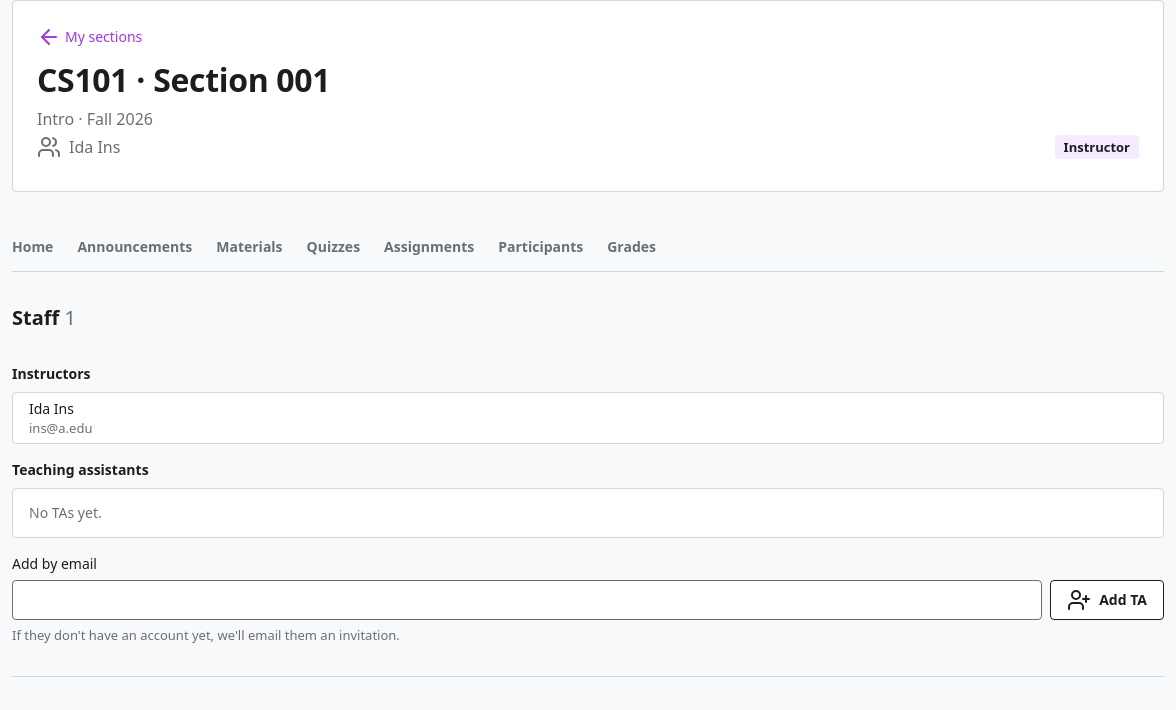
Test: adds a TA and shows the chip after refetch
The width and height of the screenshot is (1176, 710).
In the field labelled "Add by email": (527, 600) [12, 580, 1042, 620], type " tom@a.edu "
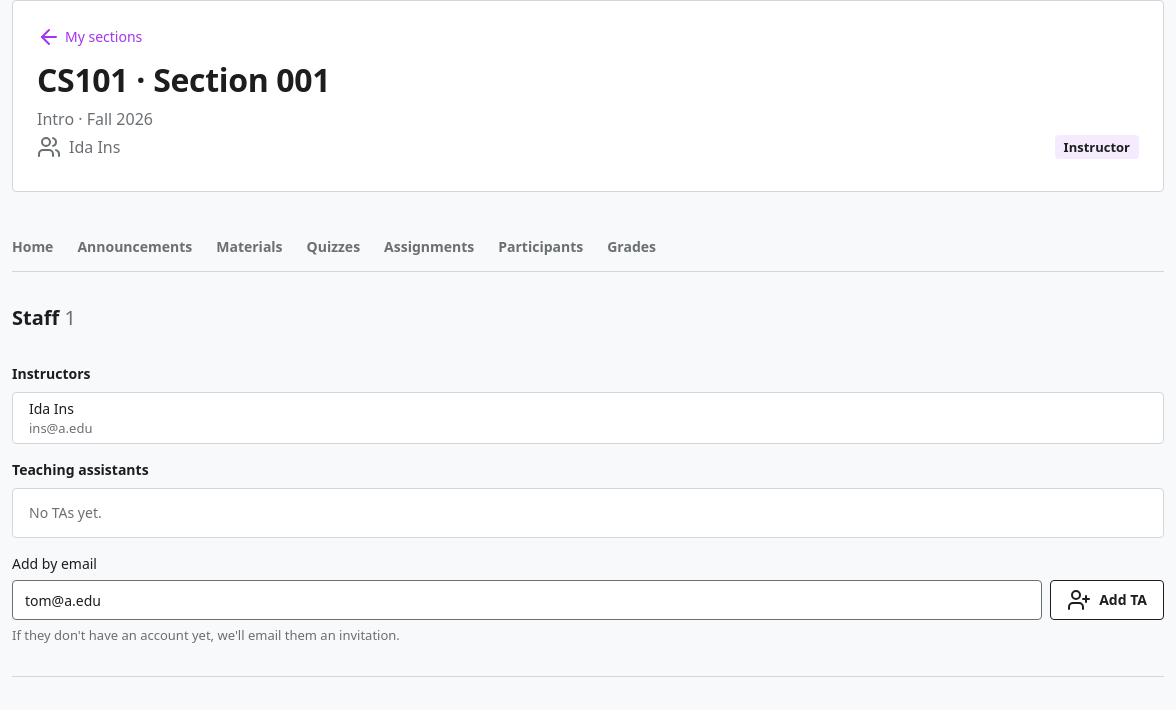
Click the button "Add TA": (1107, 600) [1050, 580, 1164, 620]
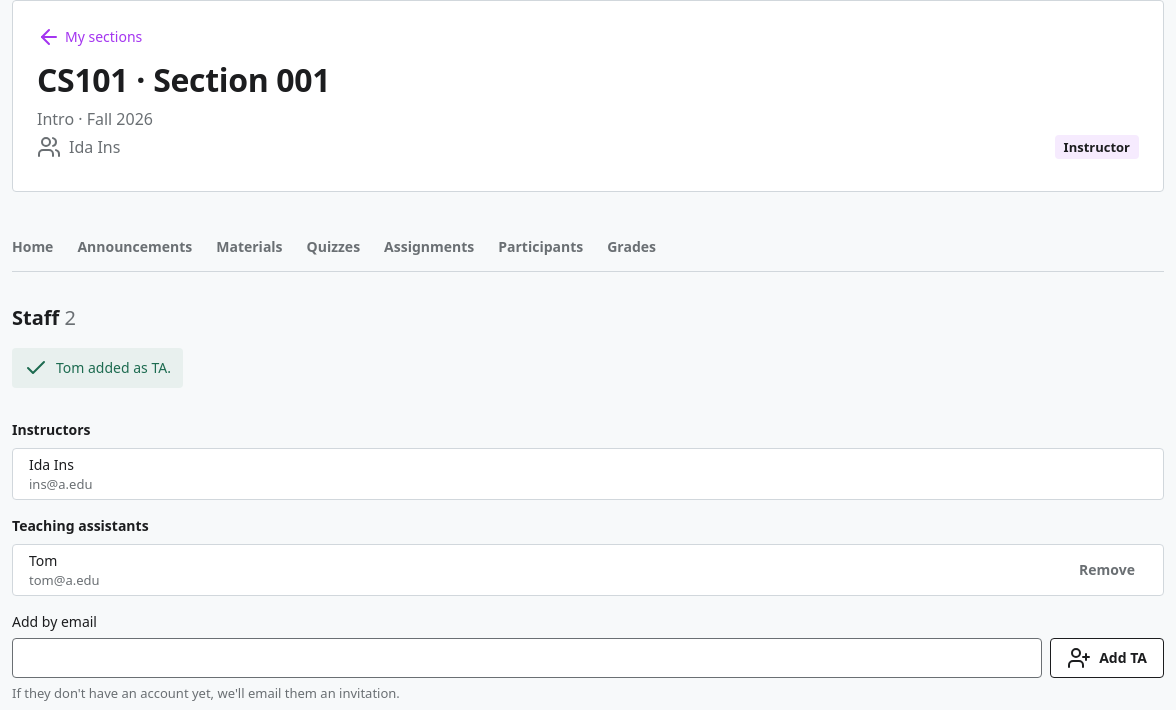
Check: the text "Tom added as TA." is shown, box [12, 348, 183, 388]
Check: the text "Tom" is shown, box [29, 551, 57, 570]
